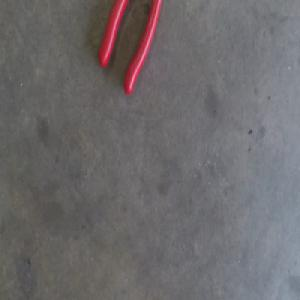Pliers: (98, 0, 162, 95)
